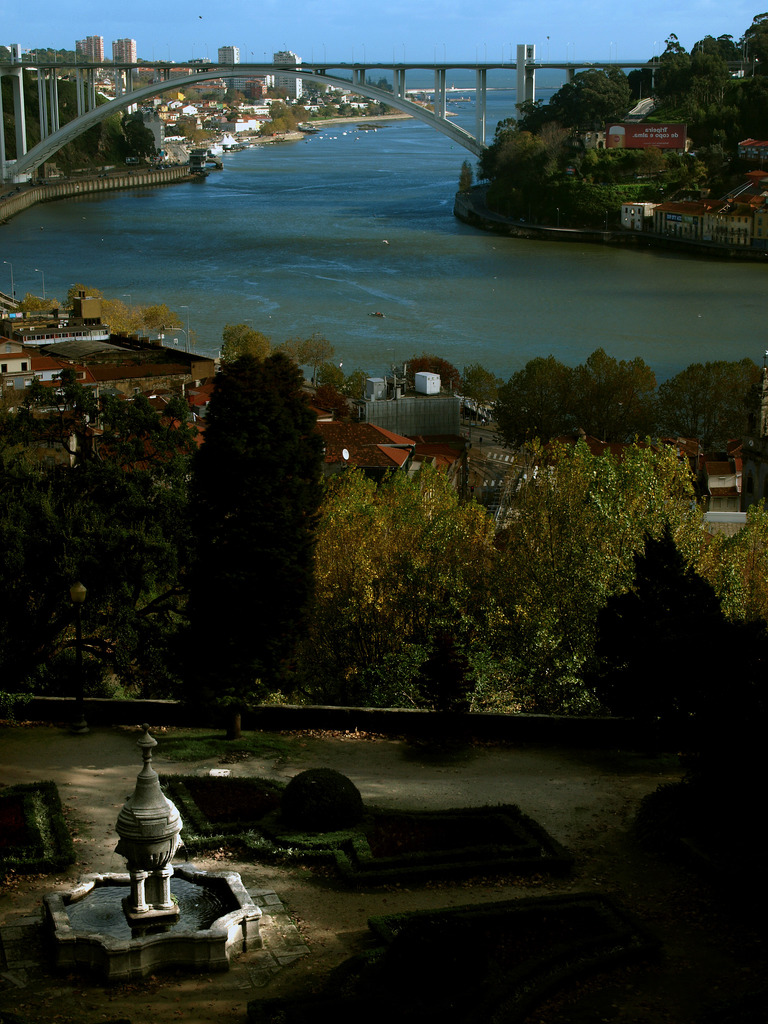arrabida: (0, 39, 656, 195)
